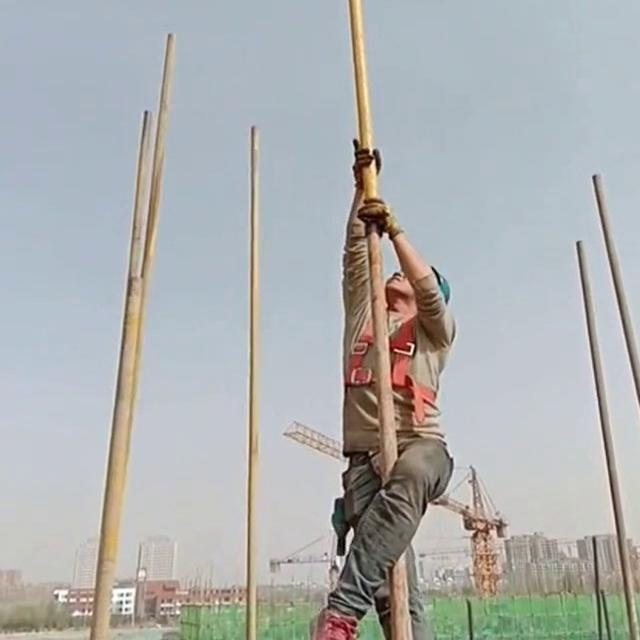Arnes_seguridad: (333, 309, 442, 417)
